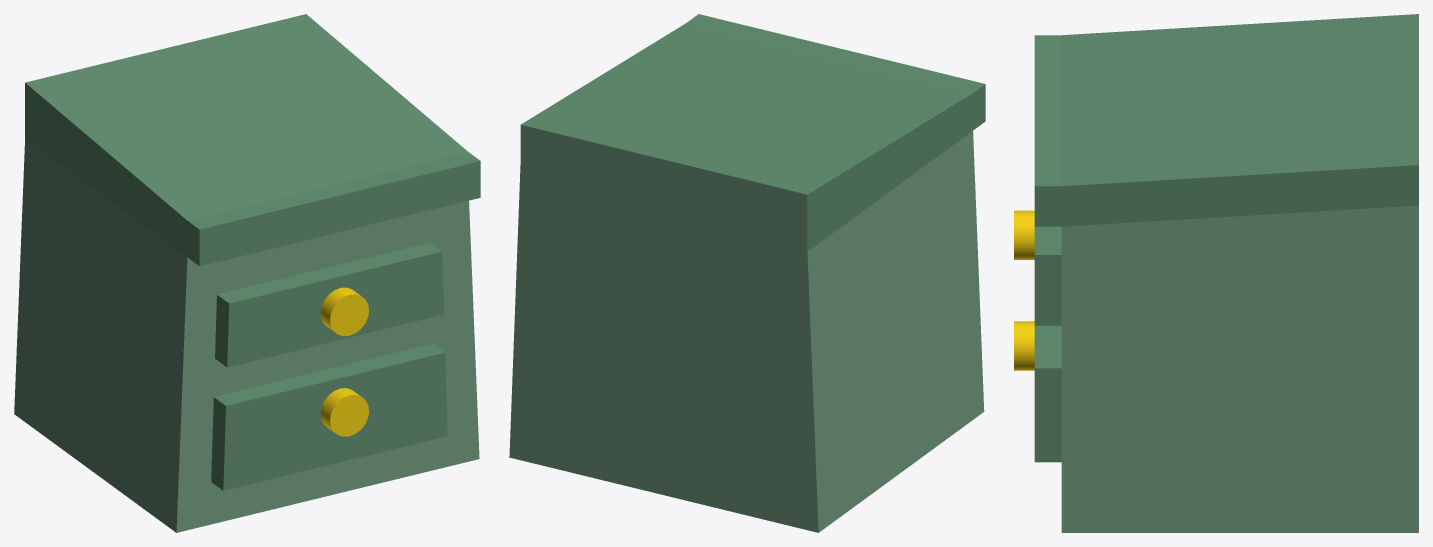
Rendered from Drawer_A.fbx.
3 views of the same model, side by side, from view 1: azimuth 30°, elevation 25°; view 2: azimuth 150°, elevation 25°; view 3: azimuth 270°, elevation 25° (orthographic). The views are drawn at different scales.
Parts seen in each view (by area): view 1: pCube1, pCylinder1, pCylinder2; view 2: pCube1; view 3: pCube1, pCylinder1, pCylinder2.
Boxes of the visible parts, x1=… form: pCube1: x1=14, y1=14, x2=480, y2=532; pCylinder1: x1=320, y1=287, x2=368, y2=336; pCylinder2: x1=320, y1=388, x2=368, y2=436; pCube1: x1=509, y1=14, x2=985, y2=532; pCube1: x1=1034, y1=14, x2=1418, y2=532; pCylinder1: x1=1014, y1=210, x2=1034, y2=259; pCylinder2: x1=1014, y1=321, x2=1034, y2=370.
Bounding box in the file's own units: 100 × 104 × 105.
